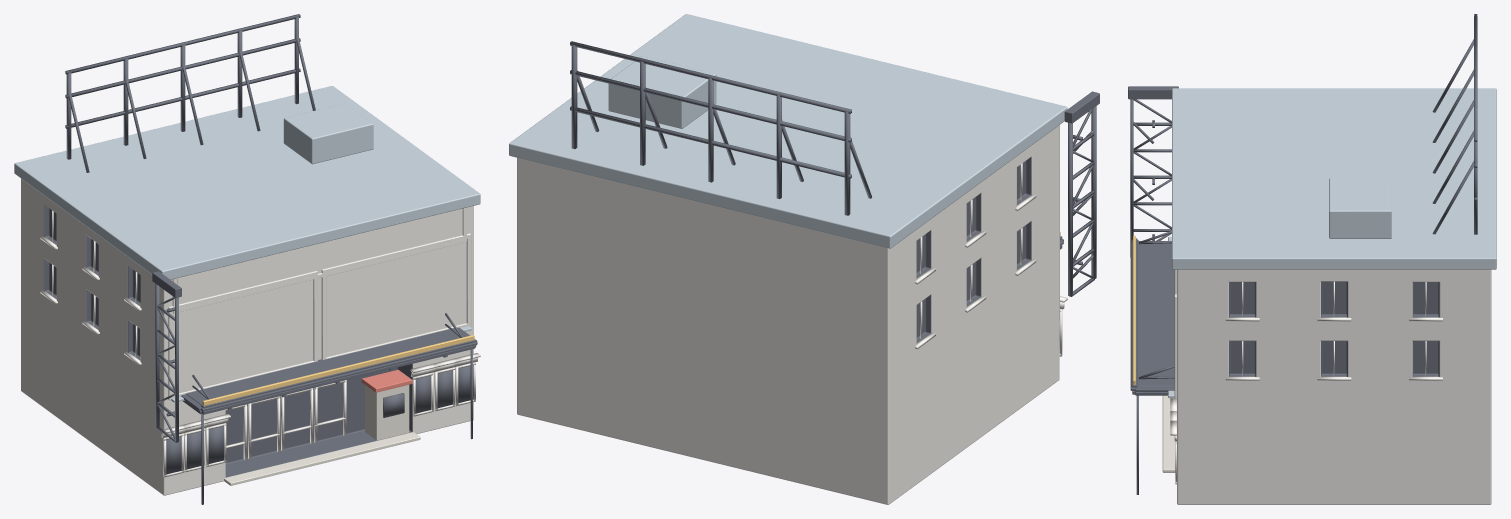
The model's file is lux.glb.
The picture shows the model from 3 angles, left to right: view 1: azimuth 30°, elevation 25°; view 2: azimuth 150°, elevation 25°; view 3: azimuth 270°, elevation 25°; orthographic projection. The views are drawn at different scales.
Parts seen in each view (by area): view 1: main; view 2: main; view 3: main.
Boxes of the visible parts, x1,y1,x2,y2 form: main: (14, 14, 480, 504); main: (509, 14, 1099, 504); main: (1128, 14, 1496, 504).
Bounding box in the file's own units: 15.73 × 14.56 × 14.07.
